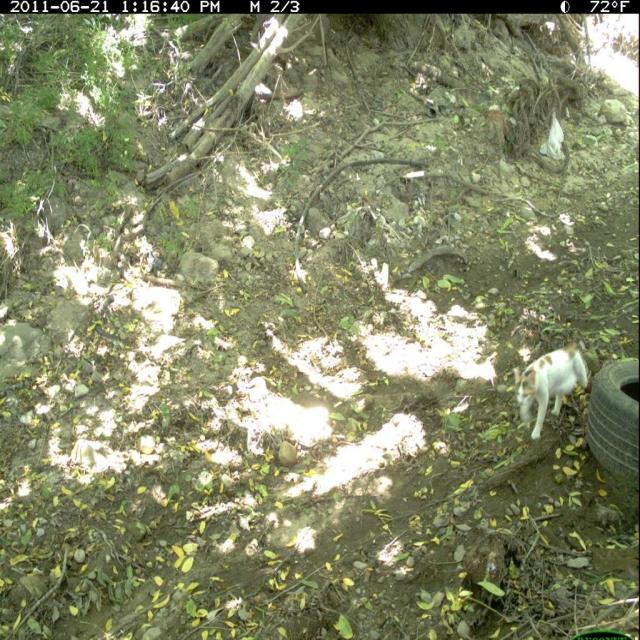cat: (511, 344, 592, 444)
